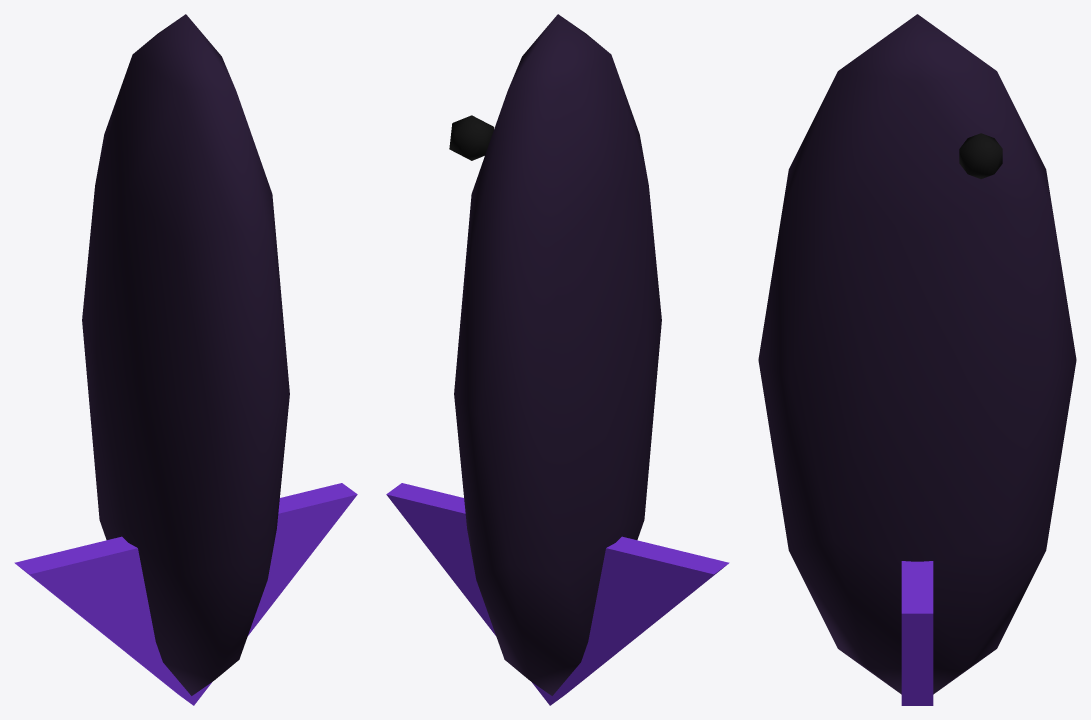
File: obsidifish.glb
3 renders of one model, left to right at view 1: azimuth 30°, elevation 25°; view 2: azimuth 150°, elevation 25°; view 3: azimuth 270°, elevation 25°, orthographic.
Parts seen in each view (by area): view 1: obsidifish_v0; view 2: obsidifish_v0; view 3: obsidifish_v0.
Boxes of the visible parts, bbox=[...] form: obsidifish_v0: bbox=[14, 14, 357, 705]; obsidifish_v0: bbox=[386, 14, 729, 705]; obsidifish_v0: bbox=[758, 14, 1076, 705].
Bounding box in the file's own units: 0.12 × 0.24 × 0.1.
